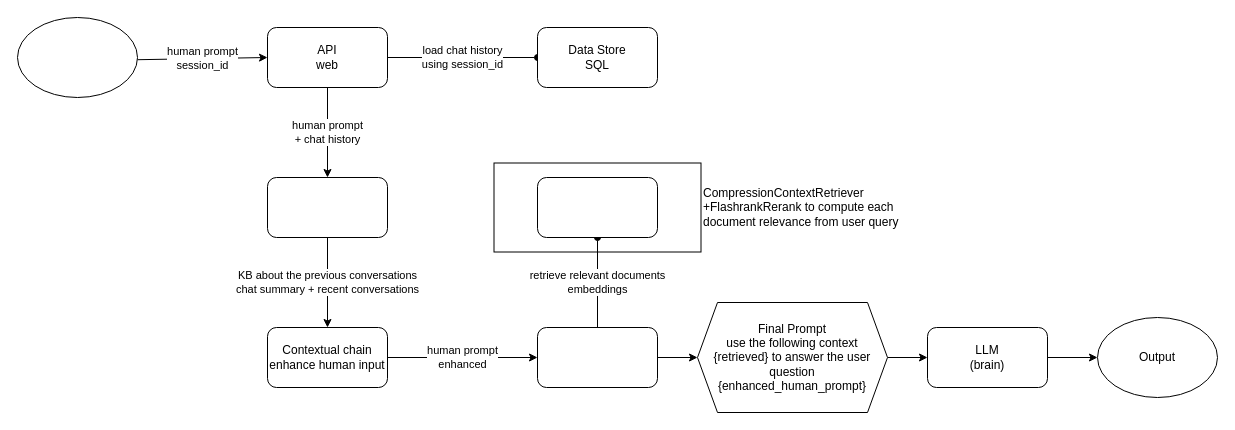
Some shapes in this 1235 by 430 pixel diagram are drawn without their labels. Here are the shapes that lost their labels. From the top down, the centre of each, then its label:
(77,57): Start
(327,207): Summarizer chain chat history
(597,207): Vector Store ChromaDB
(597,357): RAG chain
